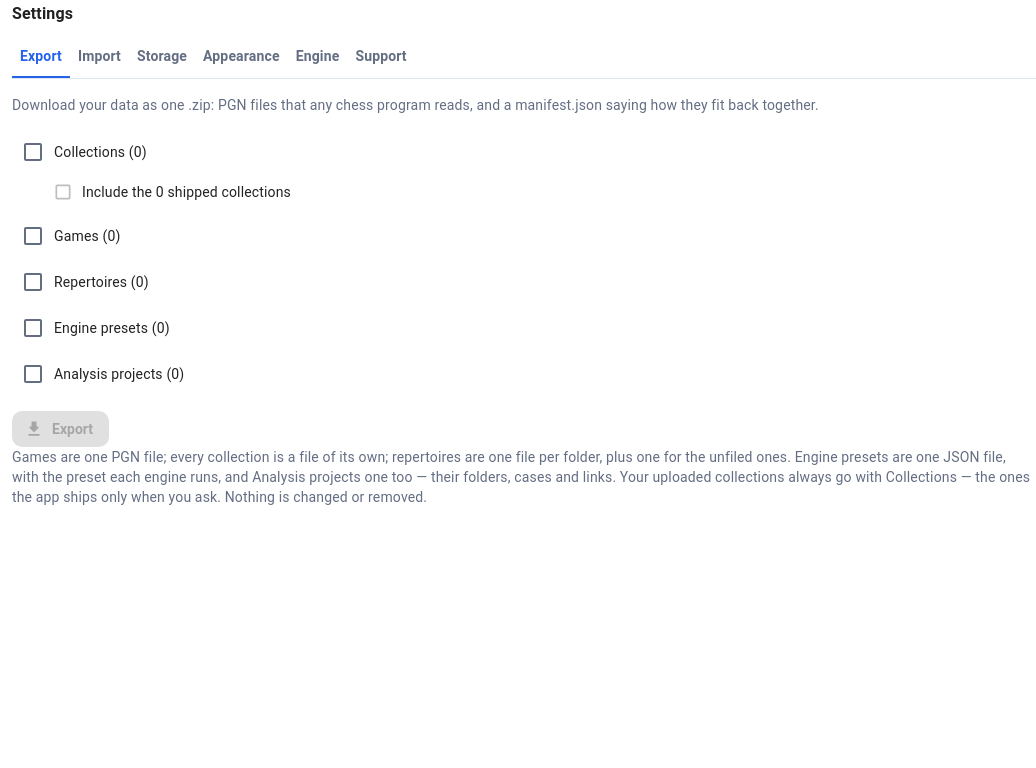
Scenario: the Export tab › says so, and keeps the screen, when the browser refuses the download
Click the checkbox labelled "Games (0)".
click(71, 236)  # box [21,224,120,248]
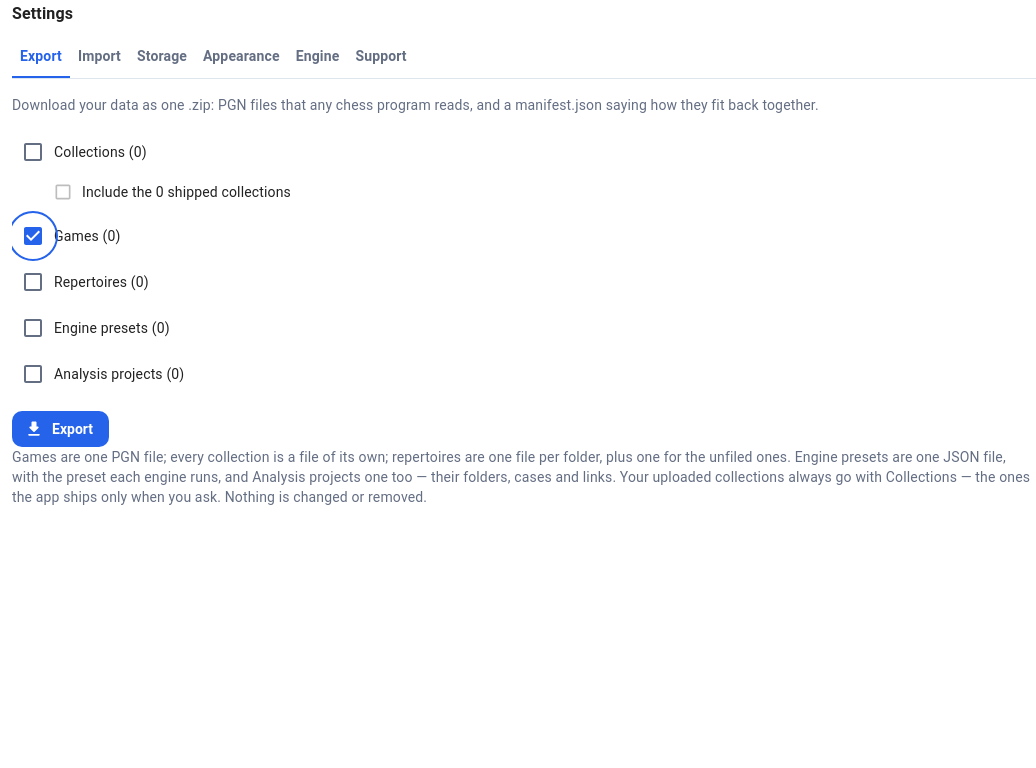
Click the button with test id "settings-export-run".
click(60, 429)  # box [12,410,109,447]
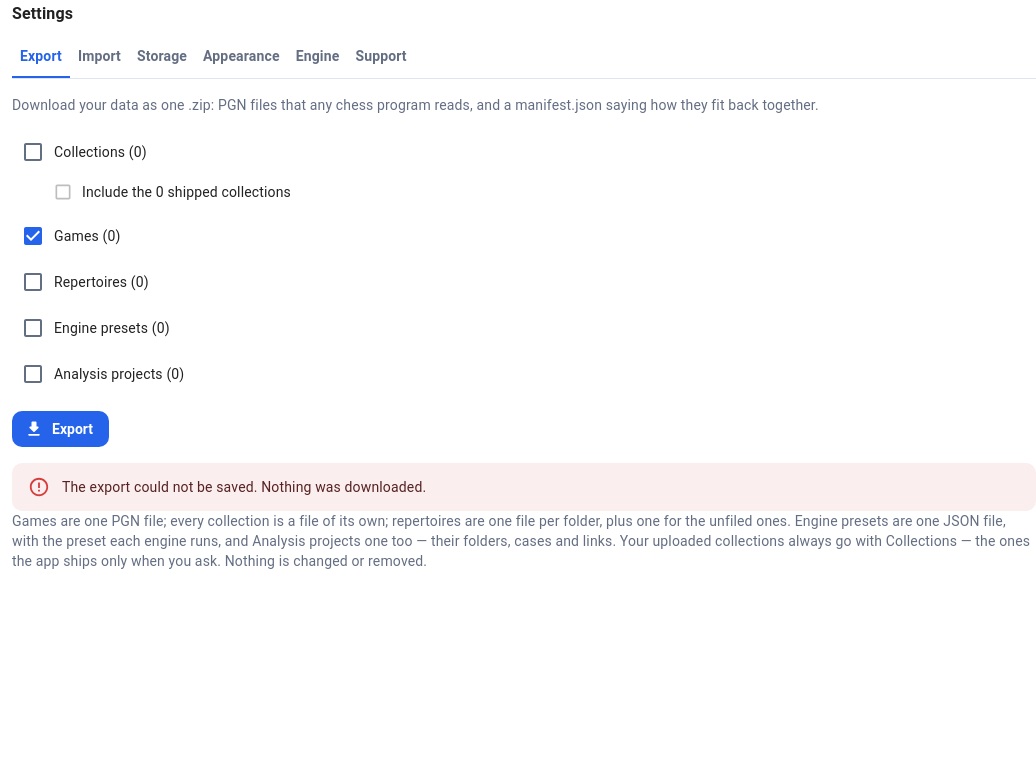
Now the button with test id "settings-export-run" is enabled, box [12,410,109,447]
Now the message "The export could not be saved. Nothing was downloaded." is shown, box [12,463,1035,511]
